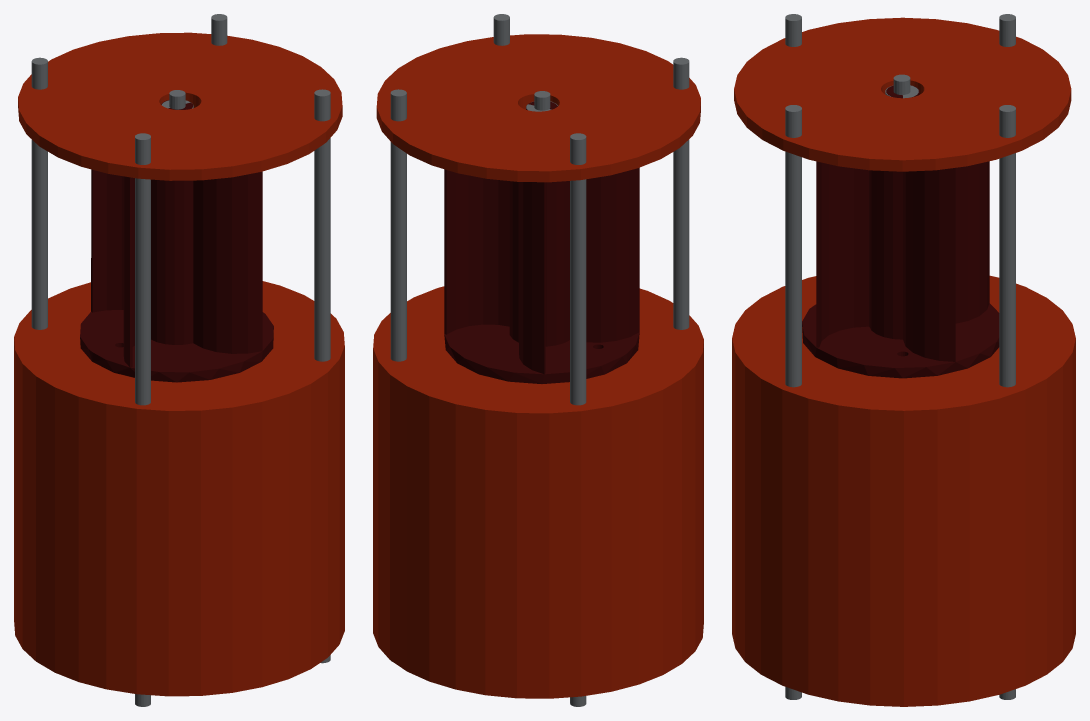
The model's file is cansat_bezspadochronu.obj.
The picture shows the model from 3 angles, left to right: view 1: azimuth 30°, elevation 25°; view 2: azimuth 150°, elevation 25°; view 3: azimuth 270°, elevation 25°; orthographic projection. The views are drawn at different scales.
Parts seen in each view (by area): view 1: Cylinder.004_Cylinder.005, wirnik_klapa_Cylinder, wirnik_Wirnik213.002, Cylinder.001_Cylinder.003; view 2: Cylinder.004_Cylinder.005, wirnik_klapa_Cylinder, wirnik_Wirnik213.002, Cylinder.001_Cylinder.003; view 3: Cylinder.004_Cylinder.005, wirnik_klapa_Cylinder, wirnik_Wirnik213.002, Cylinder.001_Cylinder.003.
Part boxes in pixels (x1=…): Cylinder.004_Cylinder.005: x1=14, y1=281, x2=344, y2=696; wirnik_klapa_Cylinder: x1=18, y1=32, x2=342, y2=180; wirnik_Wirnik213.002: x1=80, y1=100, x2=273, y2=382; Cylinder.001_Cylinder.003: x1=31, y1=14, x2=330, y2=706; Cylinder.004_Cylinder.005: x1=373, y1=286, x2=703, y2=698; wirnik_klapa_Cylinder: x1=376, y1=34, x2=700, y2=182; wirnik_Wirnik213.002: x1=444, y1=101, x2=639, y2=383; Cylinder.001_Cylinder.003: x1=390, y1=14, x2=689, y2=706; Cylinder.004_Cylinder.005: x1=732, y1=275, x2=1075, y2=706; wirnik_klapa_Cylinder: x1=734, y1=17, x2=1071, y2=171; wirnik_Wirnik213.002: x1=802, y1=85, x2=999, y2=378; Cylinder.001_Cylinder.003: x1=785, y1=14, x2=1015, y2=699.
Bounding box in the file's own units: 0.824 × 1.55 × 0.824.
